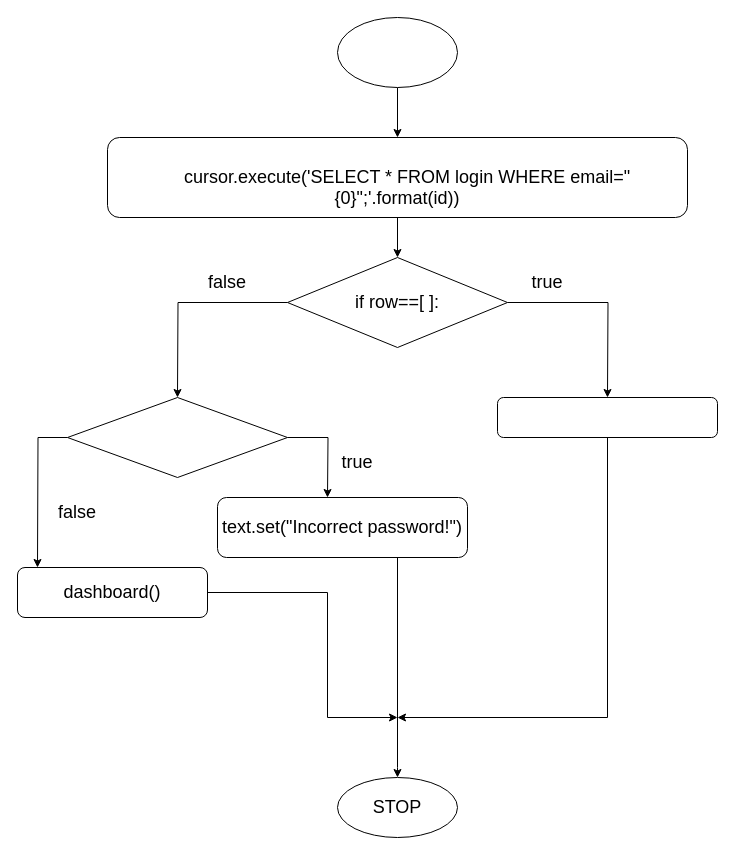
Image size: 735x855. Some labels were removed from this diagram. Here are the shapes that lost their labels. From the top down, the centre of each, then its label:
point (397, 52): START
point (177, 437): if auth != row[0][1]:
point (607, 417): text.set("Incorrect E-mail!"
